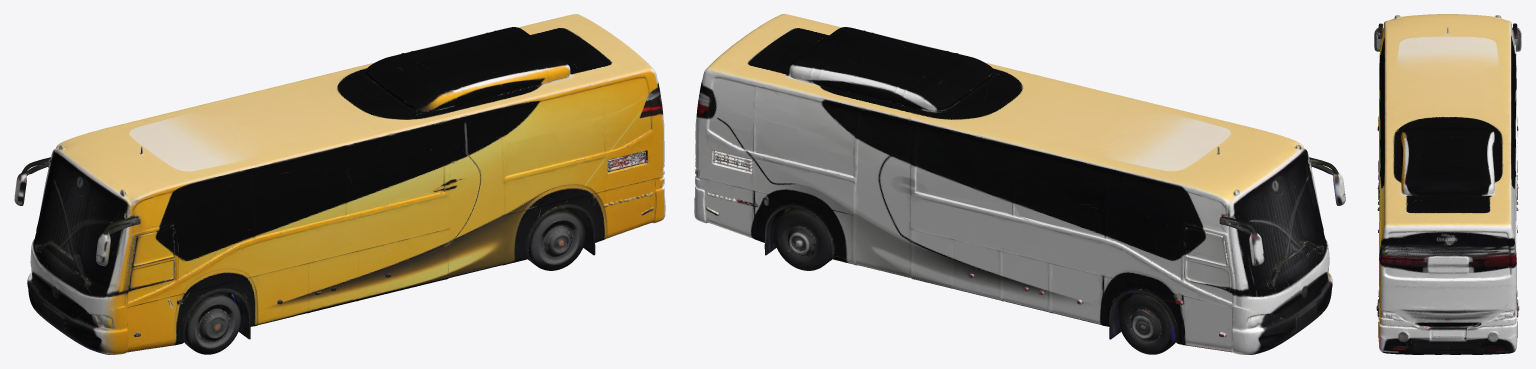
The model's file is ski_bus.glb.
The picture shows the model from 3 angles, left to right: view 1: azimuth 30°, elevation 25°; view 2: azimuth 150°, elevation 25°; view 3: azimuth 270°, elevation 25°; orthographic projection. The views are drawn at different scales.
Bounding box in the file's own units: 1.9 × 0.6104 × 0.5098.
Materials: 1 (1 with a texture image).
